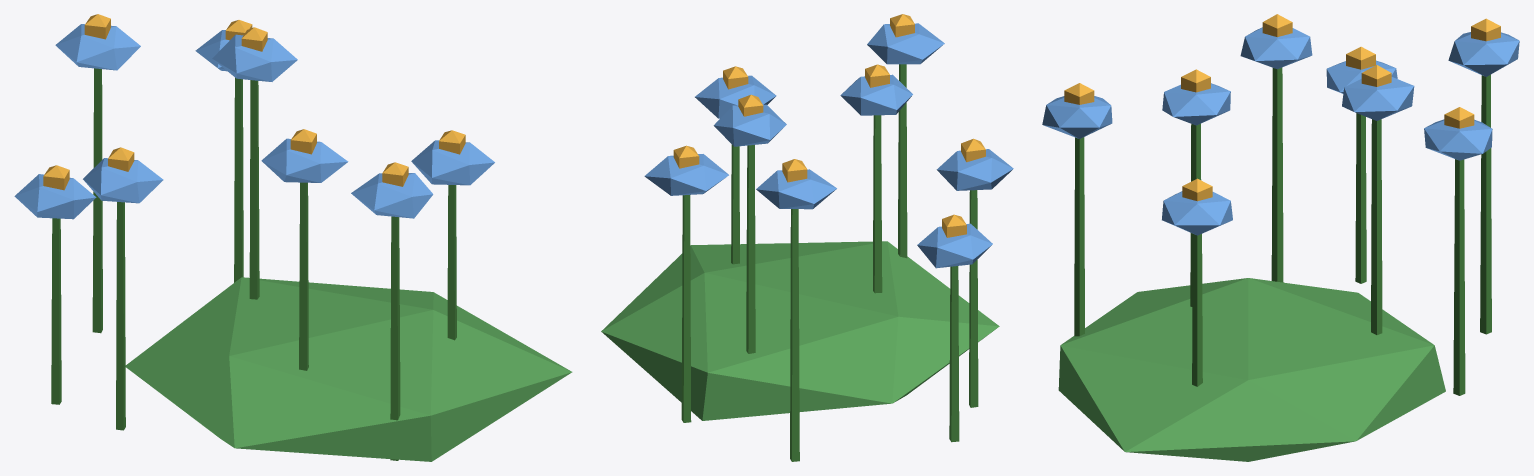
Rendered from flowers-blue.glb.
The picture shows the model from 3 angles, left to right: view 1: azimuth 30°, elevation 25°; view 2: azimuth 150°, elevation 25°; view 3: azimuth 270°, elevation 25°; orthographic projection. The views are drawn at different scales.
Parts seen in each view (by area): view 1: flowers; view 2: flowers; view 3: flowers.
Part boxes in pixels (x1=…): flowers: x1=14, y1=14, x2=572, y2=461; flowers: x1=601, y1=14, x2=1013, y2=461; flowers: x1=1042, y1=14, x2=1519, y2=461.
Bounding box in the file's own units: 0.8428 × 0.6406 × 0.8232.
